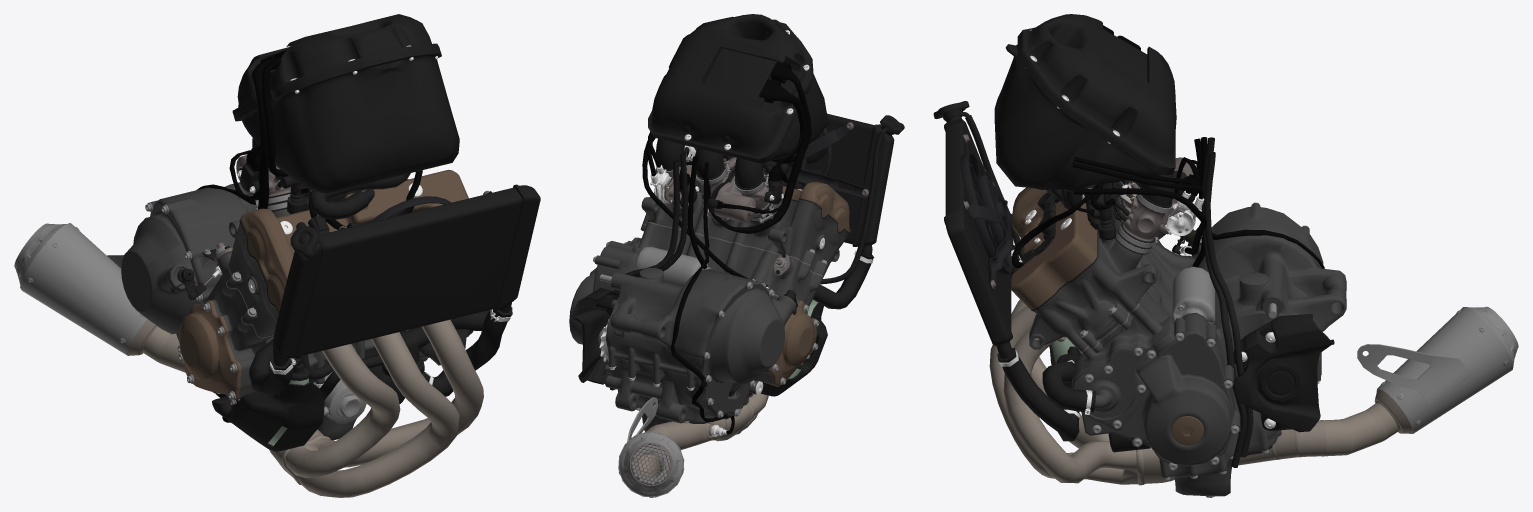
File: Motorcycle_Engine_v1.glb
3 views of the same model, side by side, from view 1: azimuth 30°, elevation 25°; view 2: azimuth 150°, elevation 25°; view 3: azimuth 270°, elevation 25° (orthographic). The views are drawn at different scales.
Parts seen in each view (by area): view 1: raditator, airbox, headers and pipe, exhaust barrel, crank case, clutch cover, valve cover, coolant bottle guard, radiator hoses, timing cover, harness, cylinders (+7 smaller); view 2: crank case, airbox, clutch cover, cylinders, raditator, harness, headers and pipe, sprocket cover, ecu, throttle bodies, timing cover, exhaust ring (+15 smaller); view 3: airbox, crank case, headers and pipe, stator cover, exhaust barrel, sprocket cover, cylinders, raditator, valve cover, radiator hoses, radiator fan, overflows (+15 smaller).
Part boxes in pixels (x1,y1,x2,y2): raditator: (273, 184, 540, 366); airbox: (232, 14, 459, 193); headers and pipe: (127, 319, 483, 497); exhaust barrel: (20, 223, 147, 355); crank case: (157, 182, 461, 399); clutch cover: (121, 198, 209, 341); valve cover: (240, 169, 468, 312); coolant bottle guard: (212, 381, 324, 451); radiator hoses: (249, 307, 512, 400); timing cover: (178, 300, 241, 400); harness: (229, 50, 422, 230); cylinders: (226, 179, 408, 337); crank case: (604, 222, 822, 423); airbox: (648, 14, 827, 190); clutch cover: (697, 280, 796, 417); cylinders: (641, 192, 849, 278); raditator: (802, 113, 894, 256); harness: (679, 61, 811, 233); headers and pipe: (638, 393, 768, 477); sprocket cover: (572, 288, 619, 384); ecu: (704, 48, 776, 96); throttle bodies: (655, 157, 769, 222); timing cover: (768, 300, 816, 386); exhaust ring: (619, 432, 683, 496); airbox: (994, 14, 1176, 213); crank case: (1072, 206, 1346, 473); headers and pipe: (989, 299, 1412, 485); stator cover: (1072, 324, 1240, 470); exhaust barrel: (1357, 307, 1513, 433); sprocket cover: (1233, 314, 1334, 432); cylinders: (1029, 196, 1157, 351); raditator: (941, 108, 1012, 358); valve cover: (1011, 187, 1097, 309); radiator hoses: (997, 245, 1095, 441); radiator fan: (960, 133, 1013, 290); overflows: (1201, 137, 1253, 467).
Bounding box in the file's own units: 0.4812 × 0.7948 × 0.9061.
